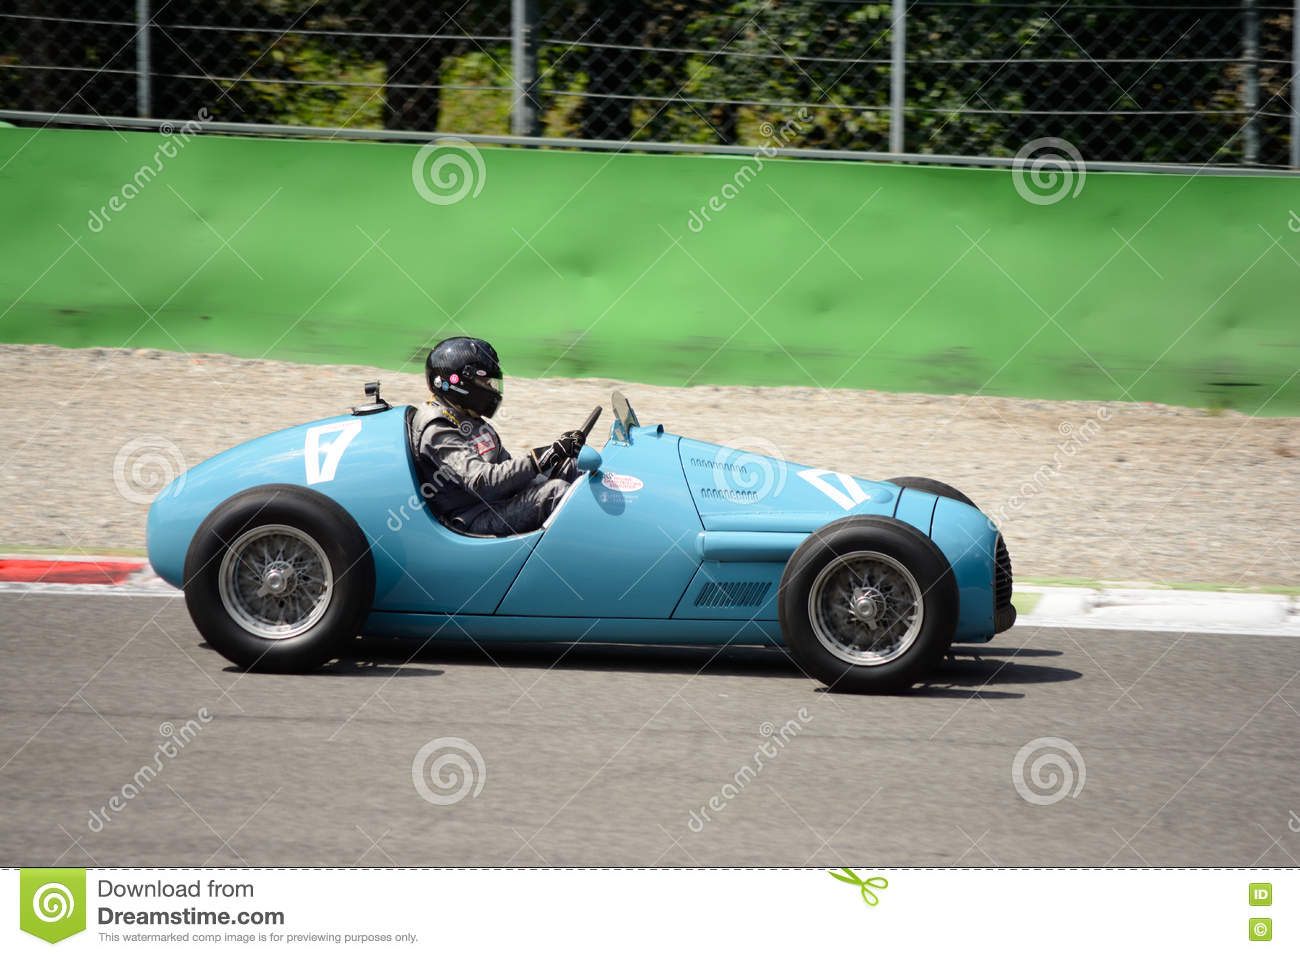f1_car: (135, 316, 1054, 721)
helmet: (418, 322, 519, 430)
